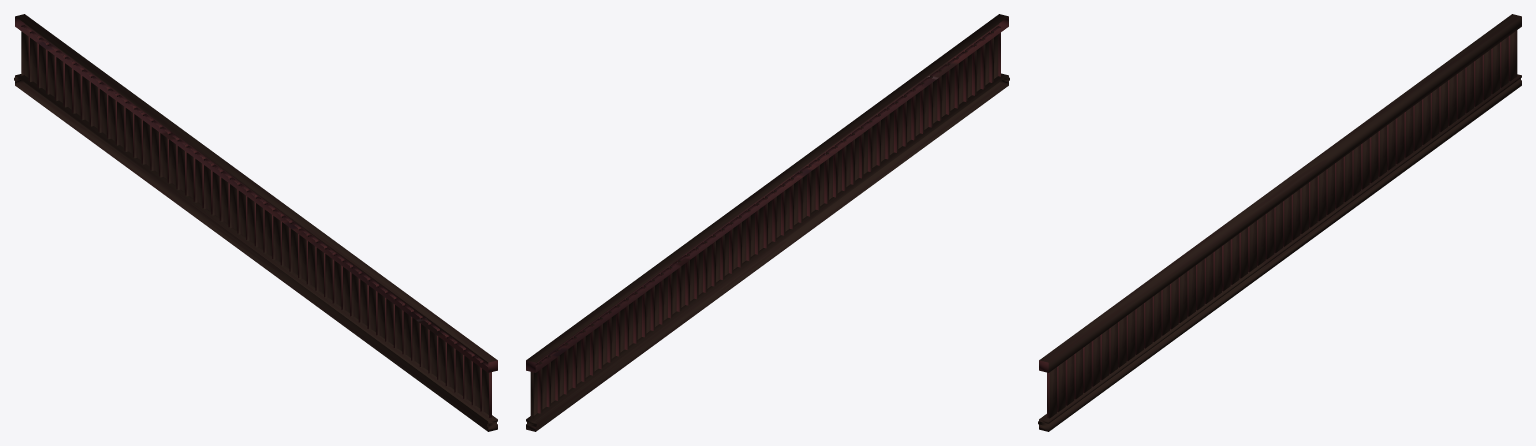
File: PainelDeParede.fbx
3 views of the same model, side by side, from view 1: azimuth 30°, elevation 25°; view 2: azimuth 150°, elevation 25°; view 3: azimuth 330°, elevation 25° (orthographic).
Visible parts, largest first — view 1: PainelDeParede; view 2: PainelDeParede; view 3: PainelDeParede.
Part boxes in pixels (left/top/right/bottom): PainelDeParede: left=14, top=14, right=497, bottom=431; PainelDeParede: left=526, top=14, right=1009, bottom=431; PainelDeParede: left=1038, top=14, right=1521, bottom=431.
Size of the model in its own units: 20.98 by 1611 by 130.
